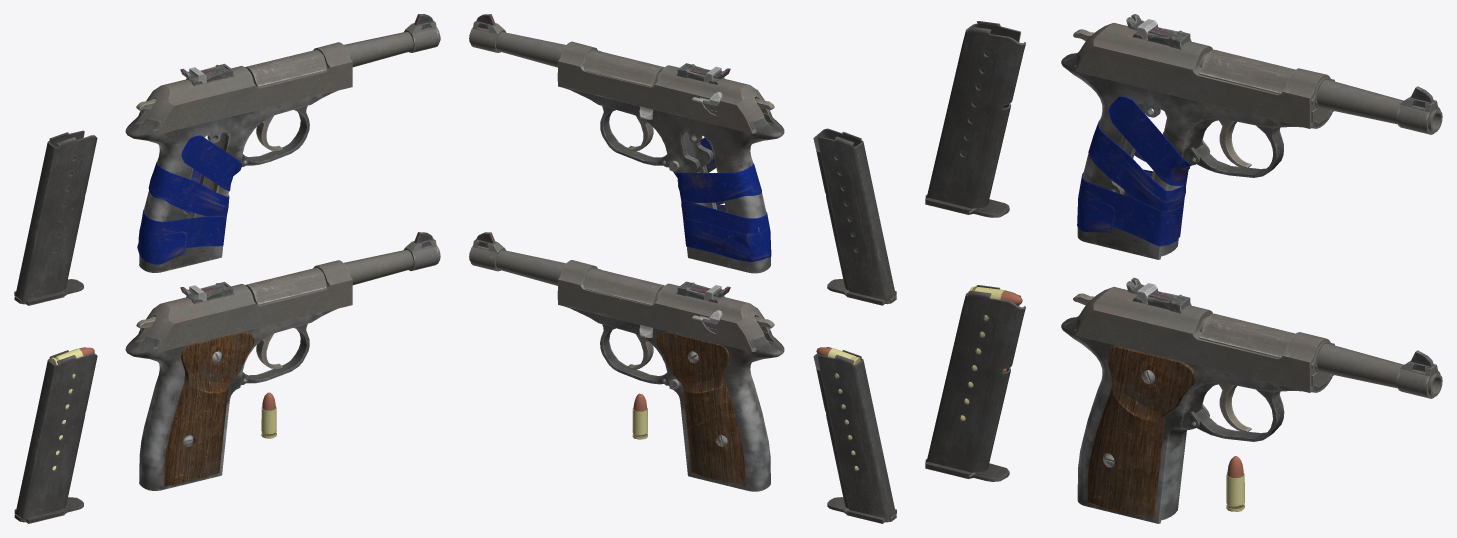
The model's file is service_pistol.glb.
The picture shows the model from 3 angles, left to right: view 1: azimuth 30°, elevation 25°; view 2: azimuth 150°, elevation 25°; view 3: azimuth 330°, elevation 25°; orthographic projection. The views are drawn at different scales.
Visible parts, largest first — view 1: service_pistol_pistol_a; view 2: service_pistol_pistol_a; view 3: service_pistol_pistol_a.
Boxes of the visible parts, x1,y1,x2,y2 form: service_pistol_pistol_a: (14,14,440,523); service_pistol_pistol_a: (469,14,896,523); service_pistol_pistol_a: (925,14,1442,523).
Bounding box in the file's own units: 0.3016 × 0.2807 × 0.0318.
1 material, 1 textured.
